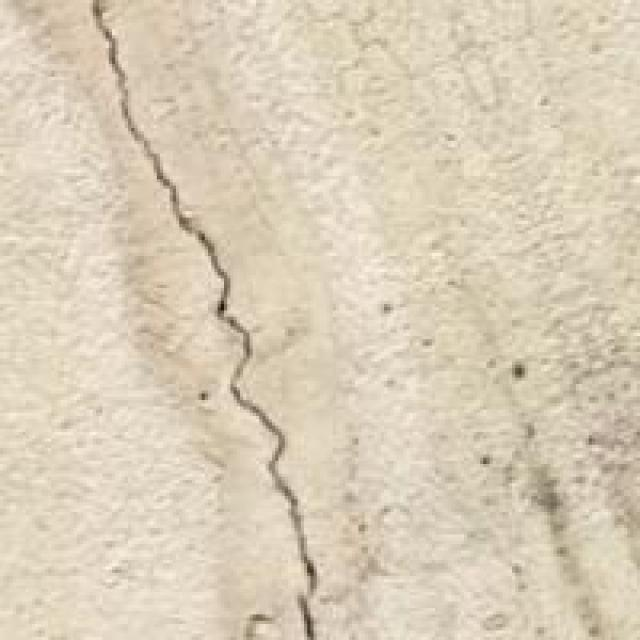Crack: (77, 0, 362, 637)
